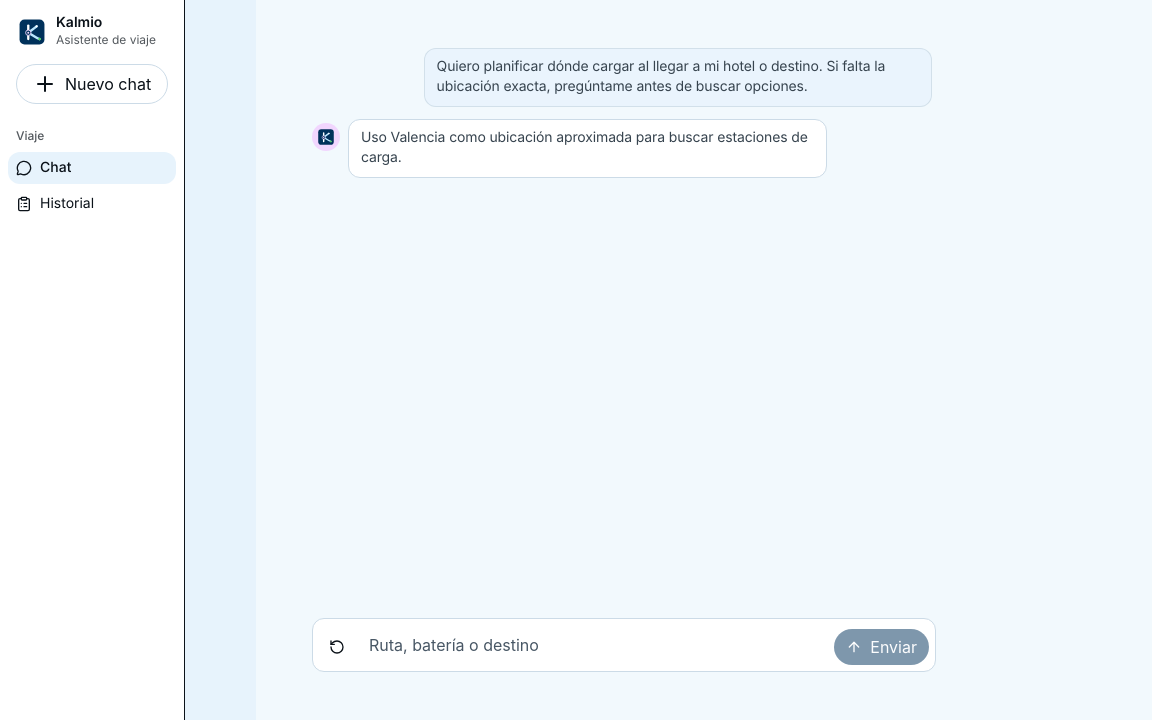
Test: App › renders unknown A2UI blocks with a safe fallback
The image size is (1152, 720).
Click the link with aria-label "Chat" at (86, 31), box 16,14 -> 156,48
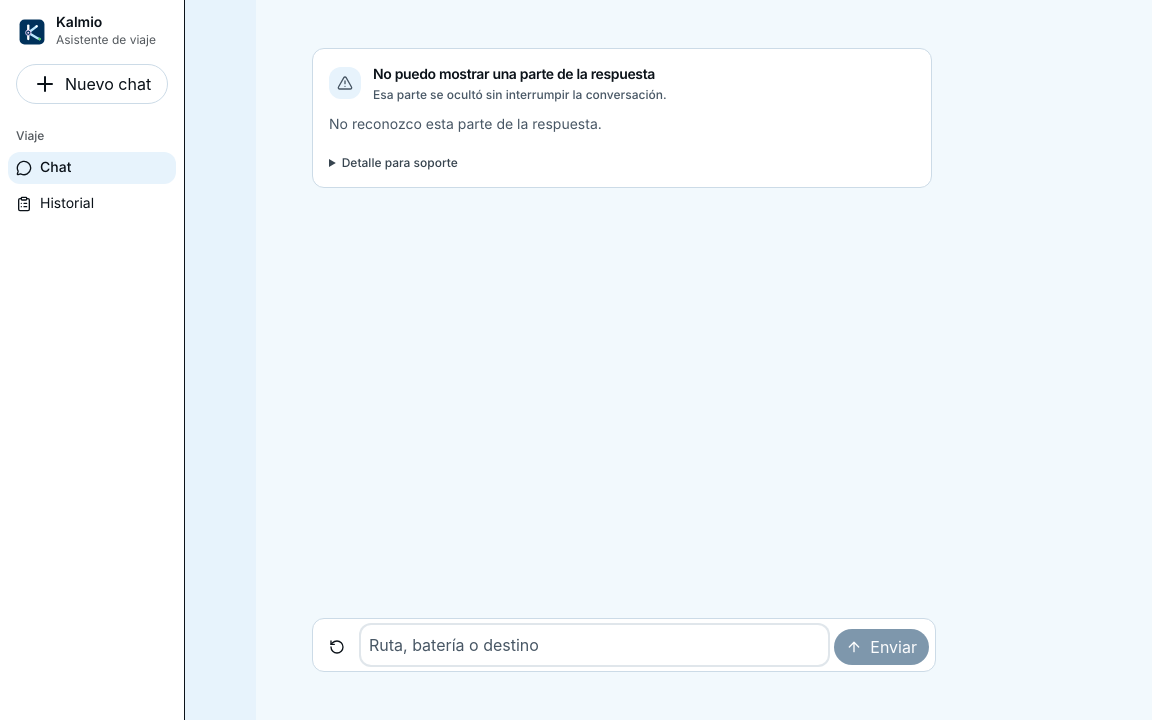
Now the text "No puedo mostrar una parte de la respuesta" is shown, box 373,65 -> 666,85
